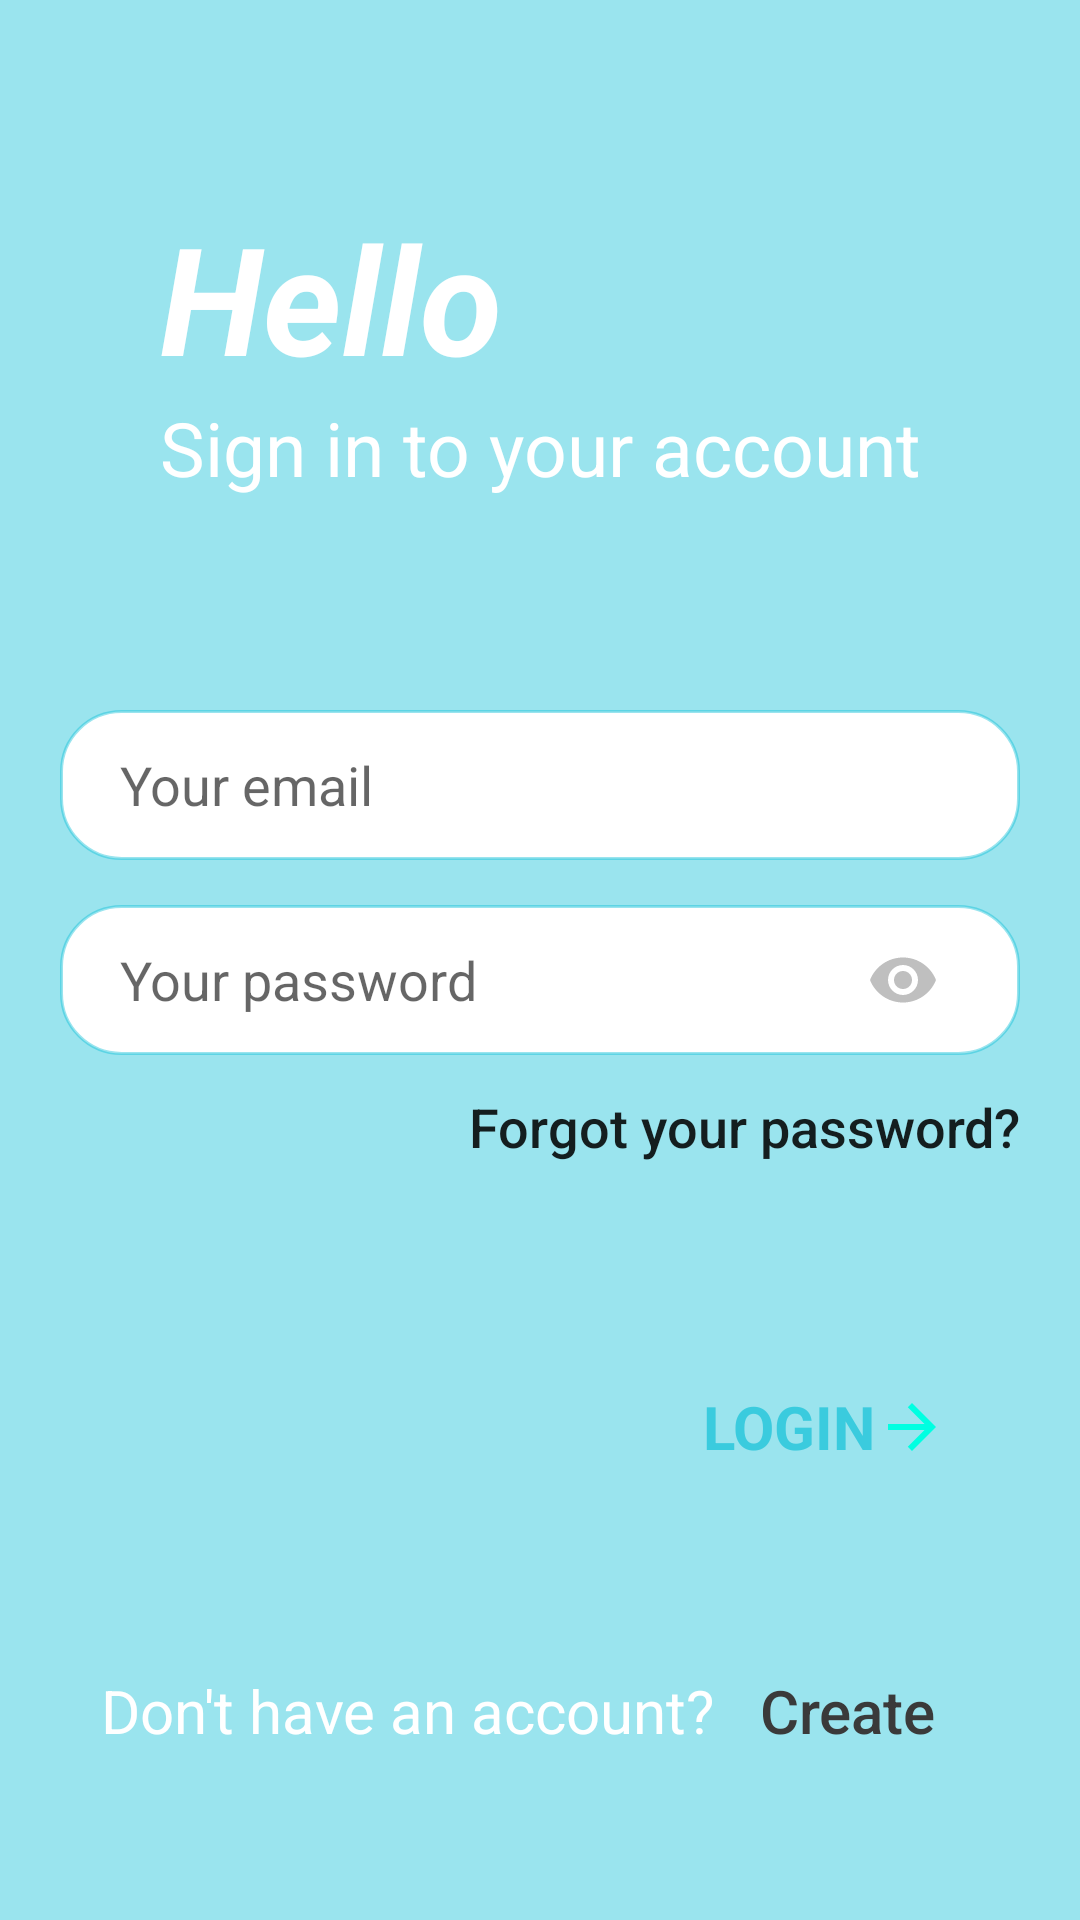

Screen size 1080px x 1920px. Icon name, then its box in pixels as (x1, y1, x2, y2):
eye disable: (870, 957, 936, 1003)
